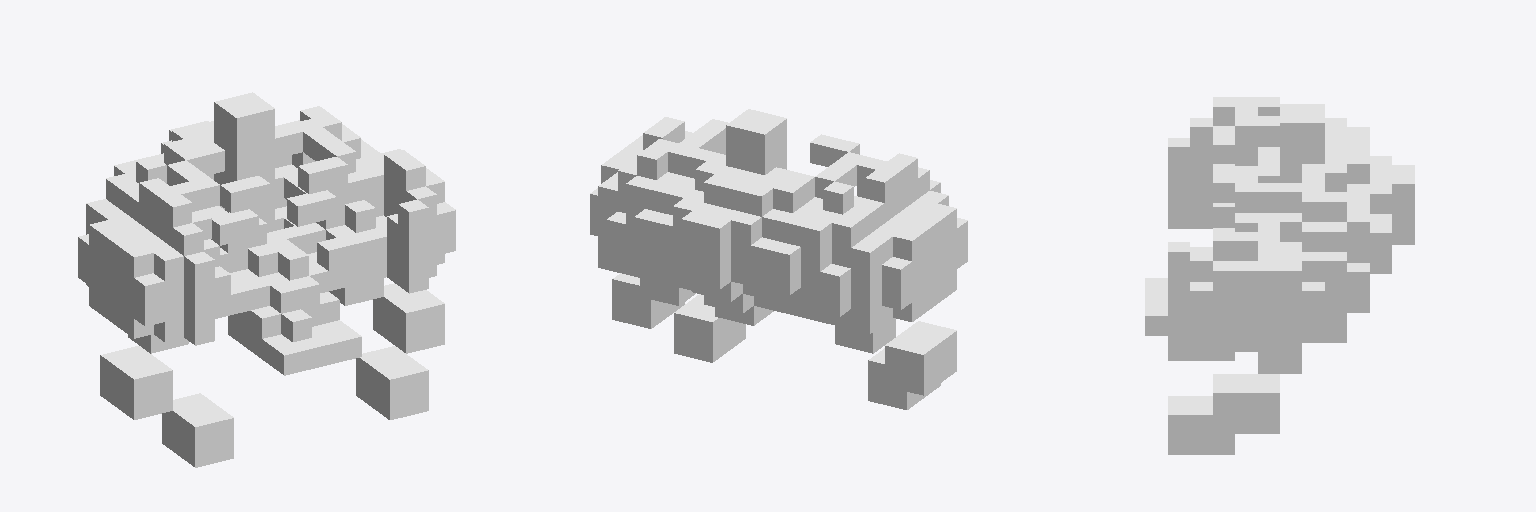
File: BossGibb1.obj
The picture shows the model from 3 angles: view 1: azimuth 30°, elevation 25°; view 2: azimuth 150°, elevation 25°; view 3: azimuth 270°, elevation 25°; orthographic projection.
Visible parts, largest first — view 1: object 1; view 2: object 1; view 3: object 1.
Part boxes in pixels (x1,y1,x2,y2): object 1: (78,92,455,467); object 1: (590,109,967,409); object 1: (1145,97,1414,454).
Bounding box in the file's own units: 1.6 × 1.4 × 1.2.